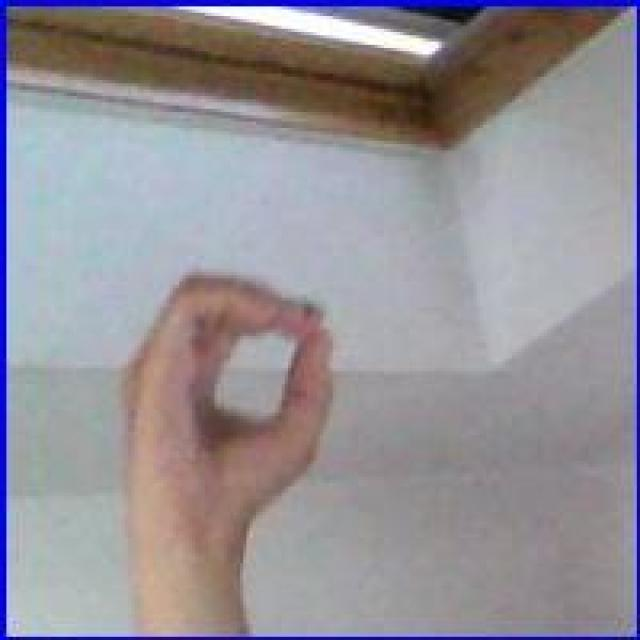O: (116, 267, 338, 549)
